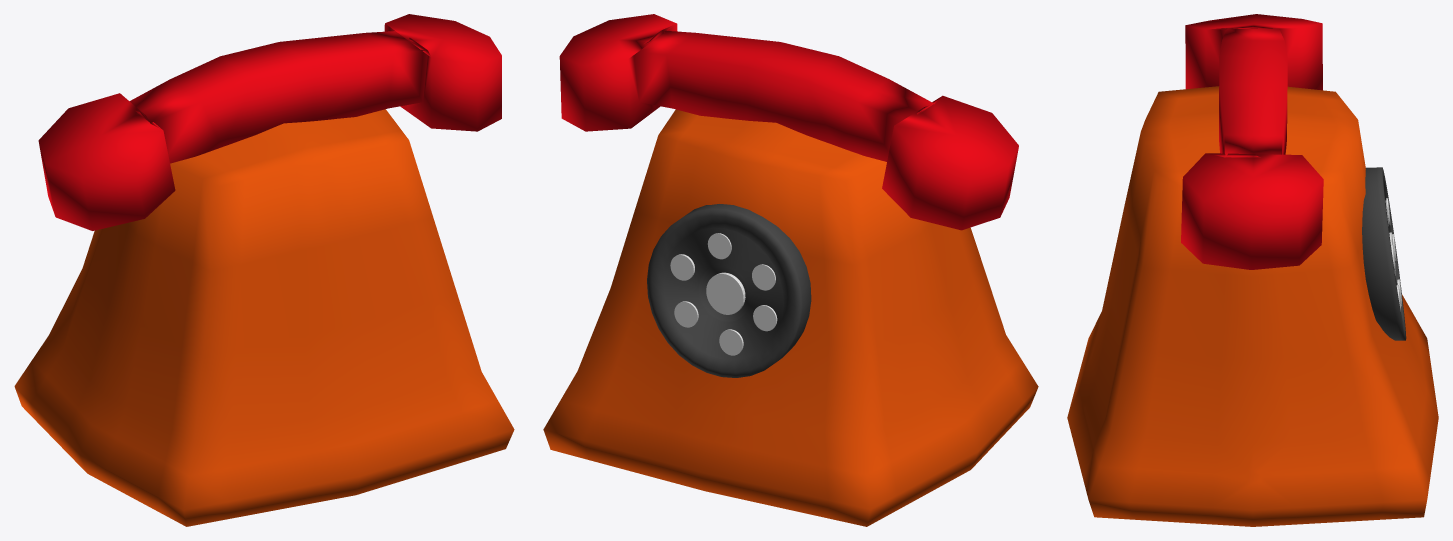
3 views of the same model, side by side, from view 1: azimuth 30°, elevation 25°; view 2: azimuth 150°, elevation 25°; view 3: azimuth 270°, elevation 25° (orthographic).
Parts seen in each view (by area): view 1: Cube.001, Cube; view 2: Cube.001, Cube; view 3: Cube.001, Cube.
Boxes of the visible parts, x1,y1,x2,y2 form: Cube.001: (14,109,514,526); Cube: (38,14,501,230); Cube.001: (543,109,1038,526); Cube: (559,14,1018,230); Cube.001: (1067,86,1438,526); Cube: (1181,14,1323,269).
Bounding box in the file's own units: 246 × 196 × 179.
